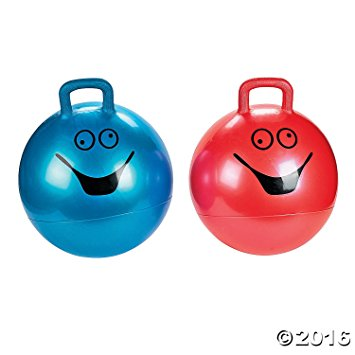blue ball: (17, 100, 175, 259)
red ball: (188, 102, 340, 255)
